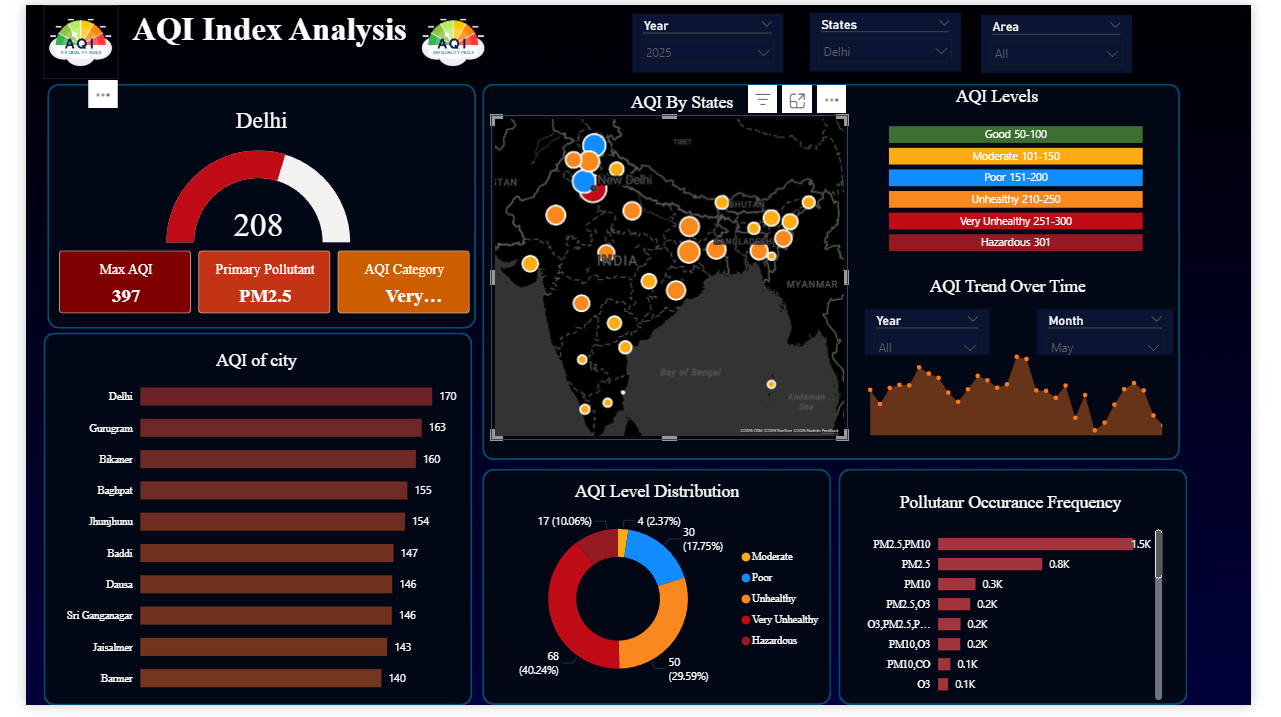

The page's visual inventory and layout, read from the dashboard file:
{"tool":"powerbi","page":{"name":"AQI Index Analysis","canvas":[1400,800],"ordinal":0},"visuals":[{"type":"shape","box":[23.8,90,490,280],"z":0},{"type":"textbox","box":[115,0,357.5,73.8],"z":1000},{"type":"gauge","fields":{"Y":["day_wise_aqi_data.Avg AQI"]},"box":[115,161.2,300,115],"z":2000},{"type":"slicer","fields":{"Values":["Calendar Table.Year"]},"box":[692.5,10,172.5,67.5],"z":3000},{"type":"slicer","fields":{"Values":["day_wise_aqi_data.state"]},"box":[895,8.8,172.5,67.5],"z":4000},{"type":"slicer","fields":{"Values":["day_wise_aqi_data.area"]},"box":[1091.2,11.2,172.5,66.2],"z":5000},{"type":"cardVisual","fields":{"Data":["Max(day_wise_aqi_data.aqi_value)","day_wise_aqi_data.Primary Pollutant","day_wise_aqi_data.AQI Category KPI"]},"box":[32.5,276.2,481.2,82.5],"z":6000},{"type":"cardVisual","fields":{"Data":["day_wise_aqi_data.KPI Title"]},"box":[23.8,91.2,490,71.2],"z":7000},{"type":"shape","box":[521.2,90,797.5,430],"z":8000},{"type":"azureMap","fields":{"Category":["day_wise_aqi_data.state"],"Size":["day_wise_aqi_data.Avg AQI"]},"box":[531.2,126.2,407.5,371.2],"z":9000},{"type":"cardVisual","fields":{"Data":["day_wise_aqi_data.State Map Title"]},"box":[675,76.2,206.2,55],"z":10000},{"type":"barChart","fields":{"Y":["day_wise_aqi_data.Lable"],"Category":["day_wise_aqi_data.AQI Category"]},"box":[981.2,126.2,300,161.2],"z":11000},{"type":"cardVisual","fields":{"Data":["day_wise_aqi_data.AQI Level title"]},"box":[1045,68.8,206.2,55],"z":12000},{"type":"areaChart","fields":{"Category":["Calendar Table.Date.Variation.Date Hierarchy.Day"],"Y":["day_wise_aqi_data.Avg AQI"]},"box":[950,386.2,353.8,111.2],"z":13000},{"type":"slicer","fields":{"Values":["Calendar Table.Year"]},"box":[958.8,347.5,142.5,52.5],"z":14000},{"type":"slicer","fields":{"Values":["Calendar Table.Month"]},"box":[1155,347.5,155,52.5],"z":15000},{"type":"cardVisual","fields":{"Data":["day_wise_aqi_data.Title for  Monthly chart"]},"box":[1015,285,261.2,55],"z":16000},{"type":"shape","box":[20,373.8,490,426.2],"z":17000},{"type":"barChart","fields":{"Category":["day_wise_aqi_data.area"],"Y":["day_wise_aqi_data.Avg AQI"]},"box":[32.5,410,466.2,390],"z":18000},{"type":"cardVisual","fields":{"Data":["day_wise_aqi_data.State Map Title"]},"box":[686,132,206,10],"z":19000},{"type":"cardVisual","fields":{"Data":["day_wise_aqi_data.Titel of city"]},"box":[200,370,146.2,55],"z":20000},{"type":"shape","box":[521.2,530,398.8,270],"z":21000},{"type":"shape","box":[928.8,530,398.8,270],"z":22000},{"type":"donutChart","fields":{"Category":["day_wise_aqi_data.AQI Category"],"Y":["day_wise_aqi_data.Counts of Rows"]},"box":[531.2,560,388.8,237.5],"z":23000},{"type":"cardVisual","fields":{"Data":["day_wise_aqi_data.Dount titel"]},"box":[610,520,250,55],"z":24000},{"type":"clusteredBarChart","fields":{"Category":["day_wise_aqi_data.prominent_pollutants"],"Y":["day_wise_aqi_data.Counts of Rows"]},"box":[938.8,587.5,365,212.5],"z":25000},{"type":"cardVisual","fields":{"Data":["day_wise_aqi_data.Pollutant Title"]},"box":[981.2,532.5,306.2,55],"z":26000},{"type":"image","box":[20,0,85,85],"z":26001},{"type":"image","box":[446.2,0,85,85],"z":26002}]}

Visuals, with their boxes in screenshot pixels (x1, y1, x2, y2), scaled from the page's 1400x800 canvas onto the 1281x717 screenshot:
shape: BBox(22, 81, 470, 332)
textbox: BBox(105, 0, 432, 66)
gauge - day_wise_aqi_data.Avg AQI: BBox(105, 144, 380, 248)
slicer - Calendar Table.Year: BBox(634, 9, 791, 69)
slicer - day_wise_aqi_data.state: BBox(819, 8, 977, 68)
slicer - day_wise_aqi_data.area: BBox(998, 10, 1156, 69)
cardVisual - Max(day_wise_aqi_data.aqi_value) x day_wise_aqi_data.Primary Pollutant: BBox(30, 248, 470, 321)
cardVisual - day_wise_aqi_data.KPI Title: BBox(22, 82, 470, 146)
shape: BBox(477, 81, 1207, 466)
azureMap - day_wise_aqi_data.state x day_wise_aqi_data.Avg AQI: BBox(486, 113, 859, 446)
cardVisual - day_wise_aqi_data.State Map Title: BBox(618, 68, 806, 118)
barChart - day_wise_aqi_data.Lable x day_wise_aqi_data.AQI Category: BBox(898, 113, 1172, 258)
cardVisual - day_wise_aqi_data.AQI Level title: BBox(956, 62, 1145, 111)
areaChart - Calendar Table.Date.Variation.Date Hierarchy.Day x day_wise_aqi_data.Avg AQI: BBox(869, 346, 1193, 446)
slicer - Calendar Table.Year: BBox(877, 311, 1008, 358)
slicer - Calendar Table.Month: BBox(1057, 311, 1199, 358)
cardVisual - day_wise_aqi_data.Title for  Monthly chart: BBox(929, 255, 1168, 305)
shape: BBox(18, 335, 467, 716)
barChart - day_wise_aqi_data.area x day_wise_aqi_data.Avg AQI: BBox(30, 367, 456, 716)
cardVisual - day_wise_aqi_data.State Map Title: BBox(628, 118, 816, 127)
cardVisual - day_wise_aqi_data.Titel of city: BBox(183, 332, 317, 381)
shape: BBox(477, 475, 842, 716)
shape: BBox(850, 475, 1215, 716)
donutChart - day_wise_aqi_data.AQI Category x day_wise_aqi_data.Counts of Rows: BBox(486, 502, 842, 715)
cardVisual - day_wise_aqi_data.Dount titel: BBox(558, 466, 787, 515)
clusteredBarChart - day_wise_aqi_data.prominent_pollutants x day_wise_aqi_data.Counts of Rows: BBox(859, 527, 1193, 716)
cardVisual - day_wise_aqi_data.Pollutant Title: BBox(898, 477, 1178, 527)
image: BBox(18, 0, 96, 76)
image: BBox(408, 0, 486, 76)
